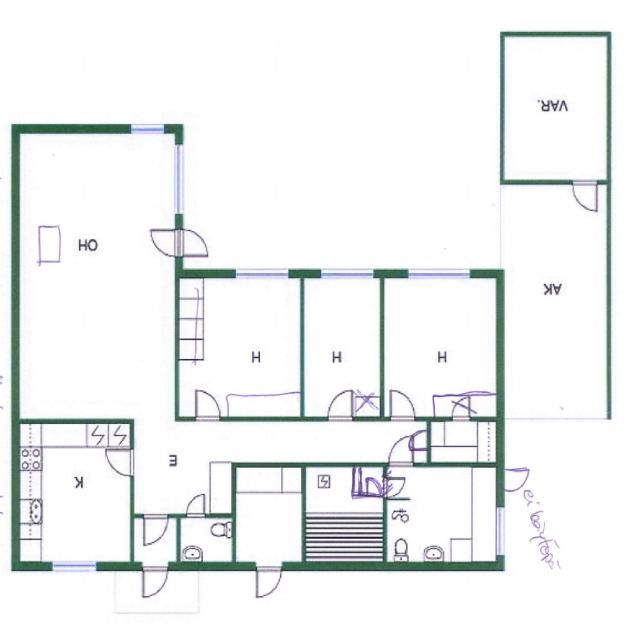door: (150, 229, 182, 256), (175, 229, 207, 256), (143, 562, 167, 597), (257, 562, 281, 597), (195, 389, 220, 421), (390, 391, 414, 422), (328, 390, 352, 421), (572, 180, 596, 211), (106, 449, 134, 475), (389, 436, 413, 466), (496, 469, 525, 493), (144, 514, 168, 543), (408, 430, 431, 450), (364, 476, 382, 498), (187, 495, 204, 517)
